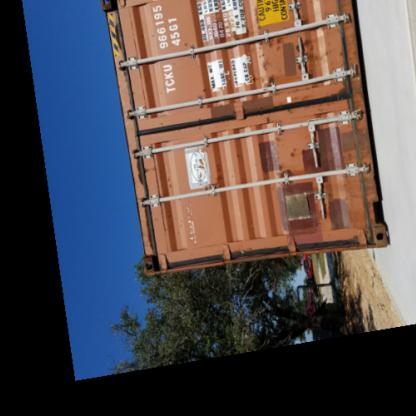Damage: (254, 34, 282, 84), (271, 129, 296, 169), (296, 36, 324, 70), (137, 154, 148, 184)
